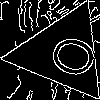O: (38, 27, 100, 83)
